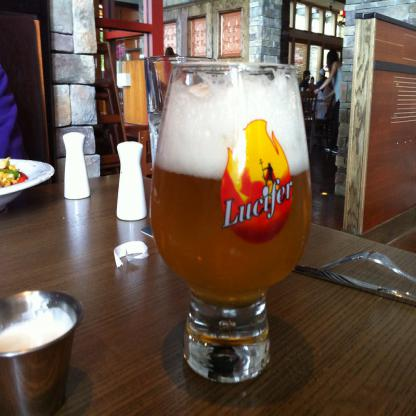drinking: (150, 62, 312, 384)
